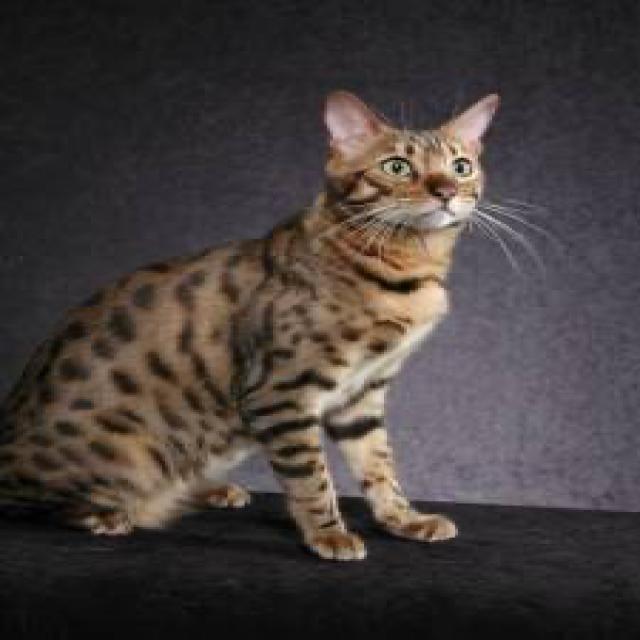cat: (321, 88, 495, 226)
